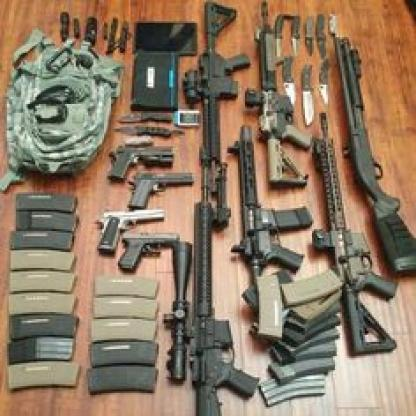Gun: (162, 143, 259, 416), (313, 110, 401, 354), (331, 32, 416, 277), (226, 122, 314, 283), (240, 0, 314, 188), (182, 2, 252, 191)
Knife: (299, 61, 319, 127), (282, 54, 299, 108), (117, 108, 174, 124), (113, 124, 173, 138), (319, 59, 335, 109), (273, 11, 286, 62), (315, 13, 329, 58), (290, 12, 302, 55), (306, 14, 315, 55)
Pistol: (94, 205, 164, 254), (116, 228, 180, 272), (107, 142, 174, 182), (126, 170, 195, 208)
